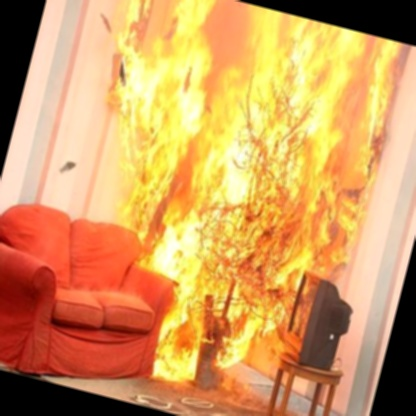fire: (87, 0, 400, 263)
